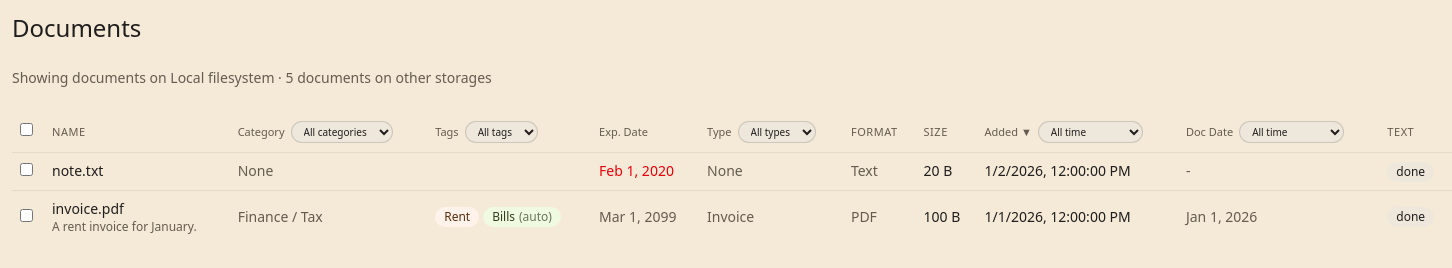
it: DocumentsPage › filters by a custom added date range and shows a clearable active filter
Expected: the link "invoice.pdf" is shown, [52,198,124,218]
Expected: the link "note.txt" is shown, [52,161,103,180]
Step 1. Select "Custom range" in the dropdown named "Filter by added date" → {"x": 1090, "y": 132}, box [1038,121,1143,143]
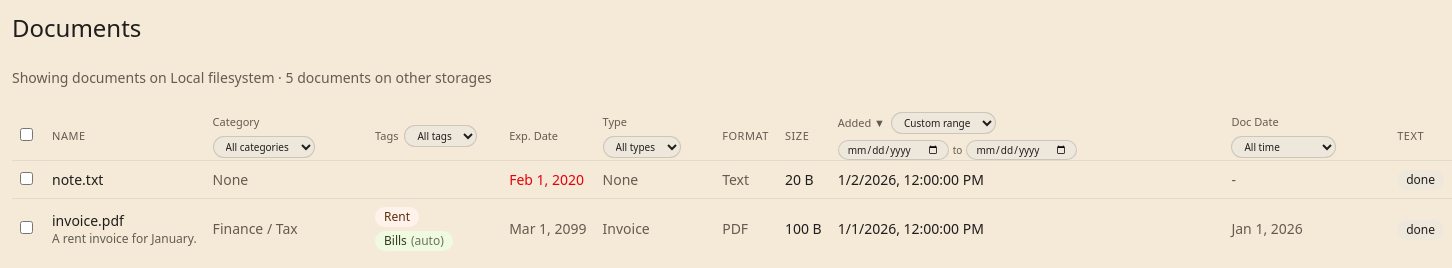
Step 2. Type "2026-01-01" into the date field named "Filter by added date, start date" → {"x": 893, "y": 150}, box [838,140,949,160]
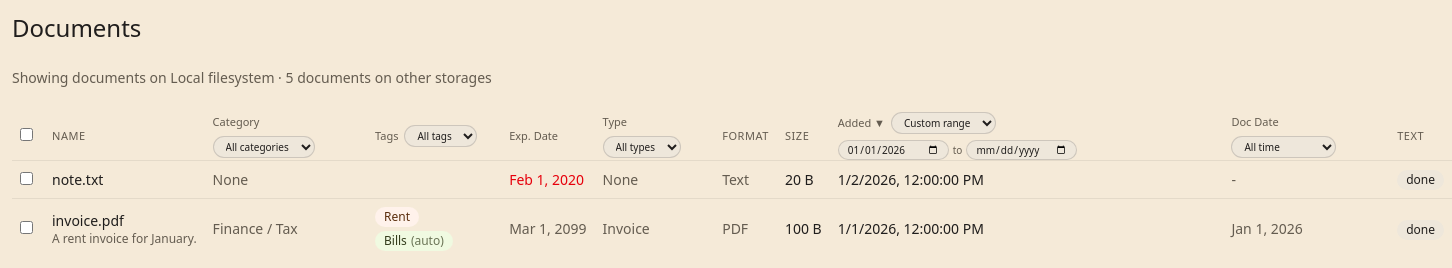
Step 3. Type "2026-01-01" into the date field named "Filter by added date, end date" → {"x": 1022, "y": 150}, box [966,140,1077,160]
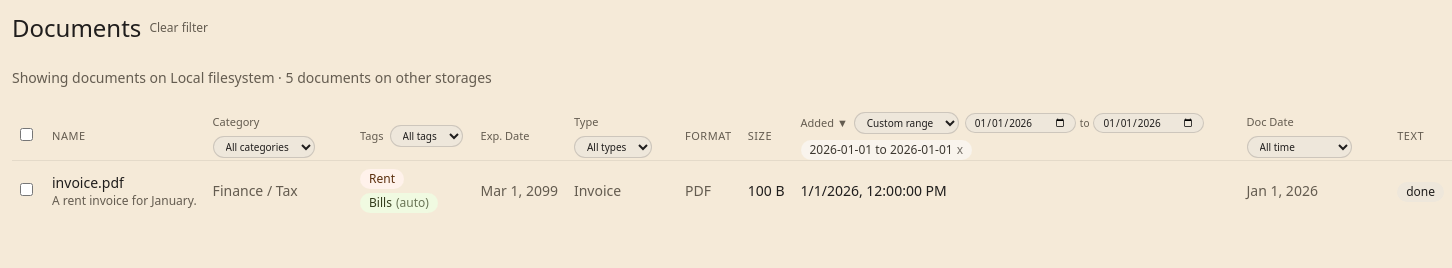
Expected: the link "invoice.pdf" is shown, [52,173,124,192]
Expected: the link "note.txt" is gone
Step 4. Click the button named "Clear added date filter" → {"x": 960, "y": 150}, box [957,142,963,158]
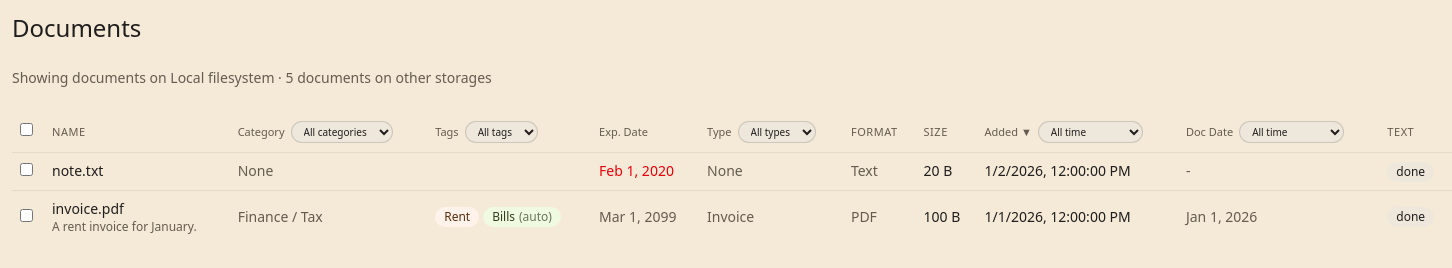
Expected: the link "note.txt" is shown, [52,161,103,180]
